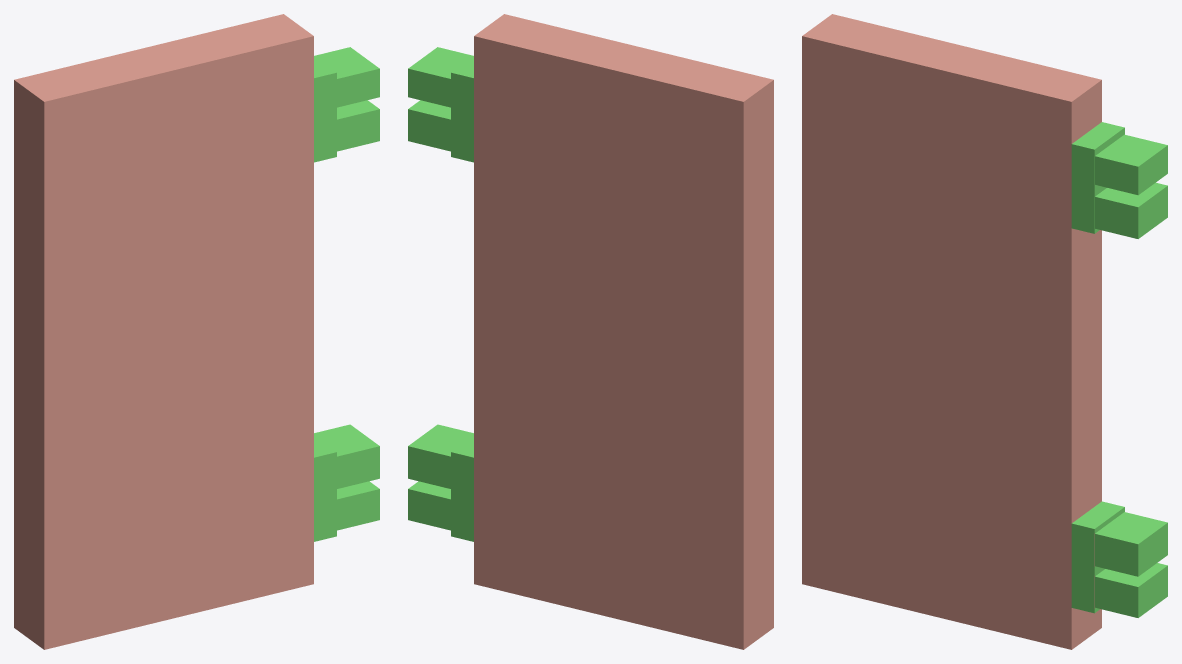
File: bildbord_low.fbx
3 views of the same model, side by side, from view 1: azimuth 30°, elevation 25°; view 2: azimuth 150°, elevation 25°; view 3: azimuth 330°, elevation 25° (orthographic).
Visible parts, largest first — view 1: bord eminision; view 2: bord eminision; view 3: bord eminision.
Part boxes in pixels (x1=…): bord eminision: x1=14, y1=14, x2=379, y2=649; bord eminision: x1=408, y1=14, x2=773, y2=649; bord eminision: x1=802, y1=14, x2=1167, y2=649.
Bounding box in the file's own units: 1283 × 2000 × 200.
